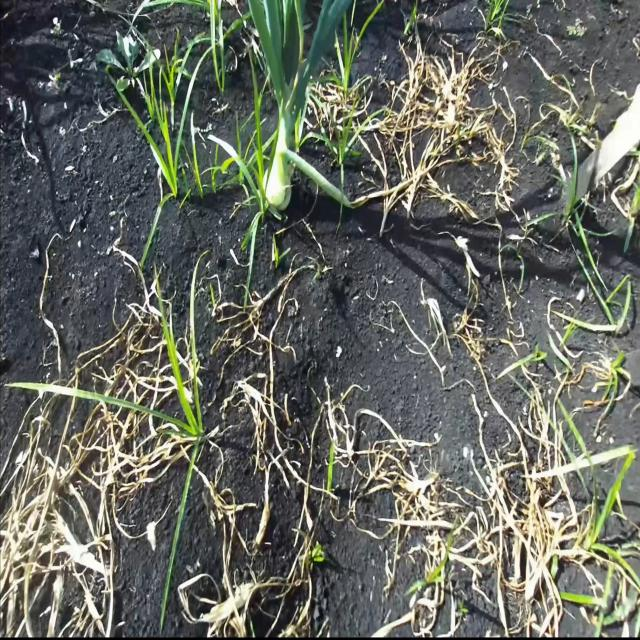onion: (263, 162, 293, 213)
